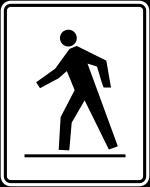Pedestrian Crossing: (15, 20, 134, 163)
